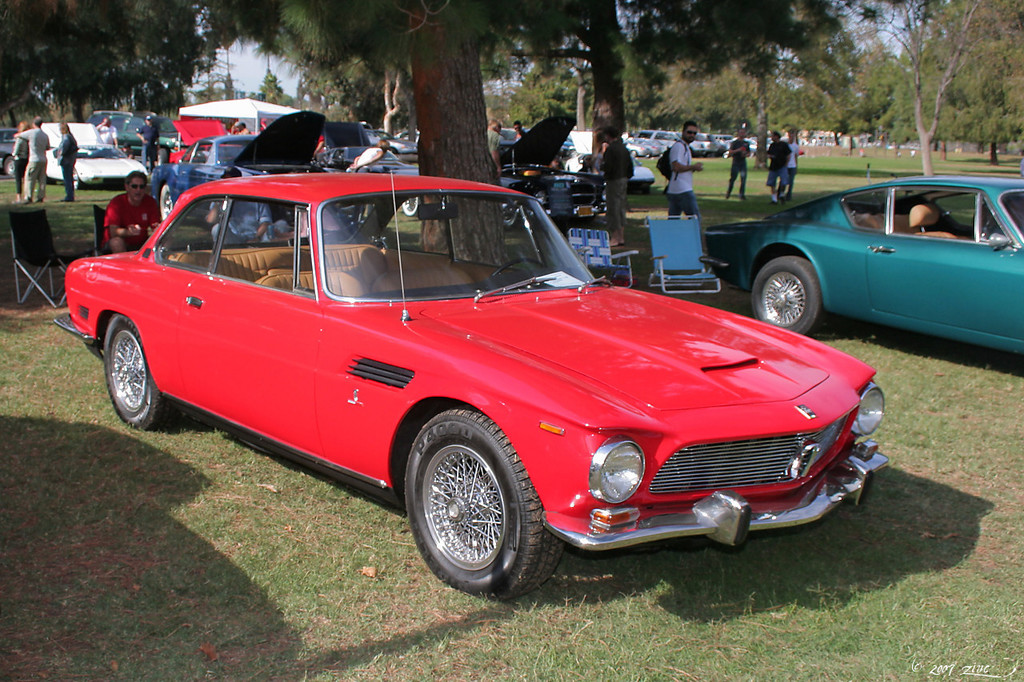mobil: (57, 170, 892, 606), (709, 169, 1024, 364)
